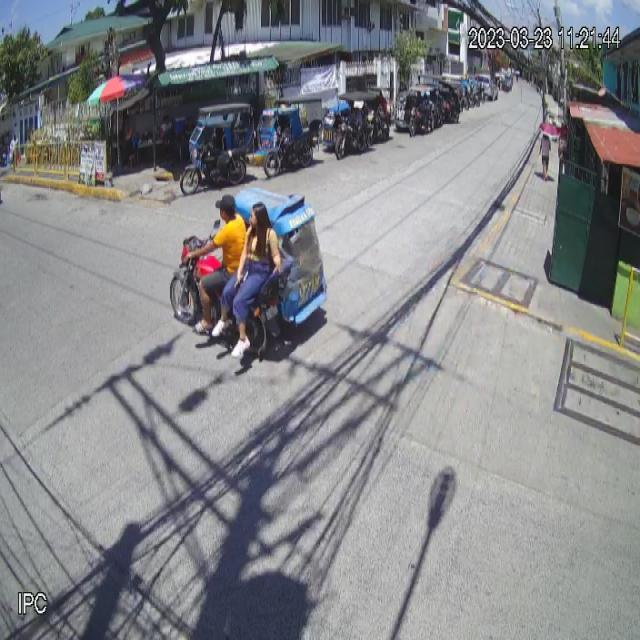Tricycle: (170, 185, 326, 362)
